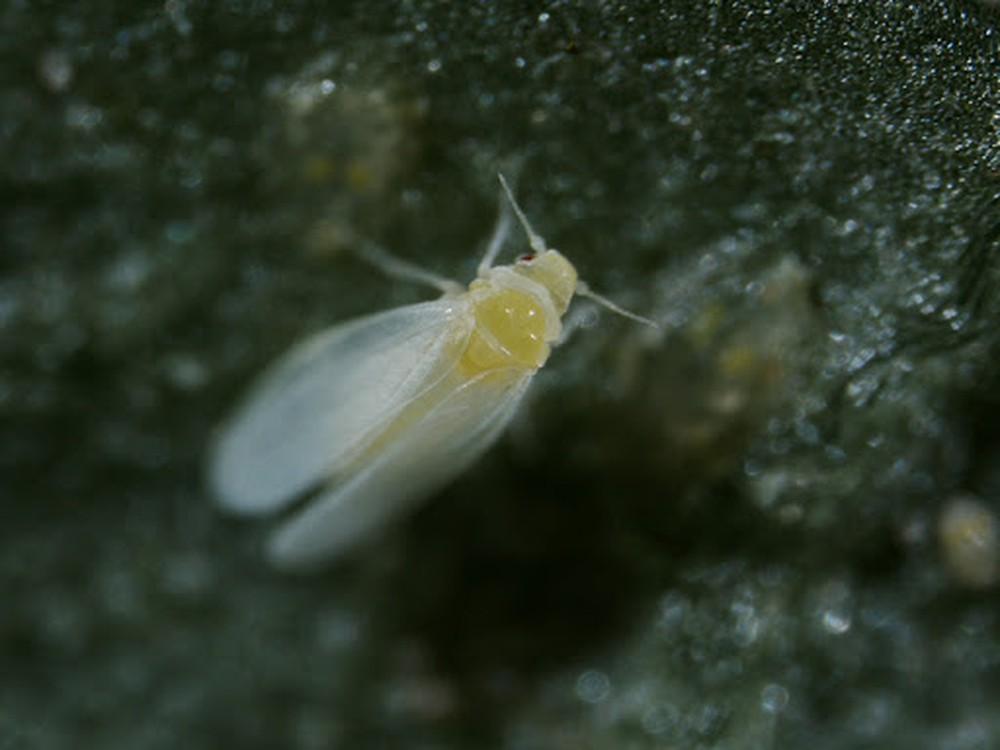Mosca Blanca: (171, 185, 679, 582)
